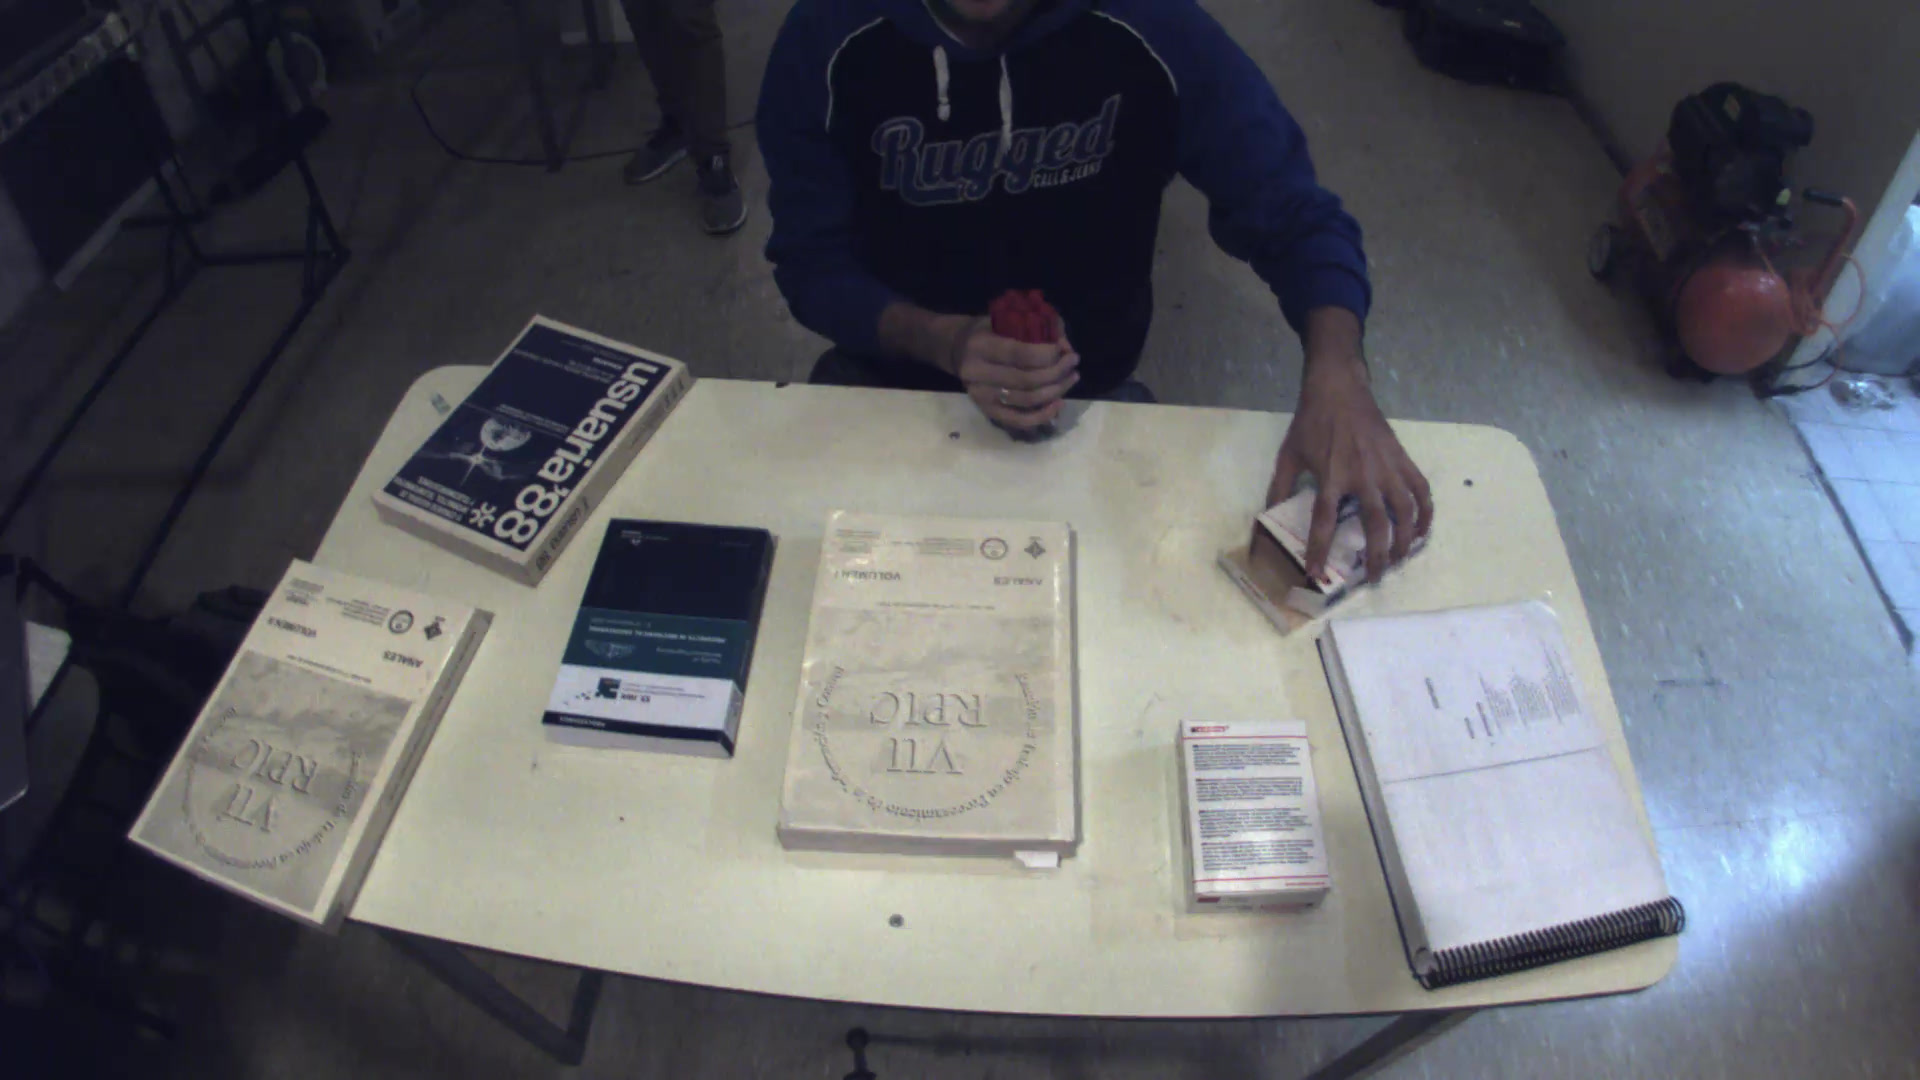hand: (1271, 367, 1448, 595), (945, 280, 1095, 442)
